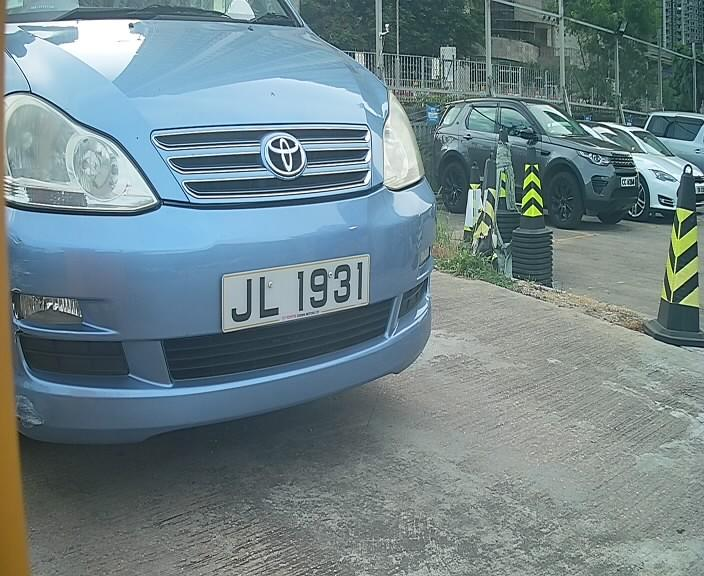License Plate: (214, 247, 375, 337)
